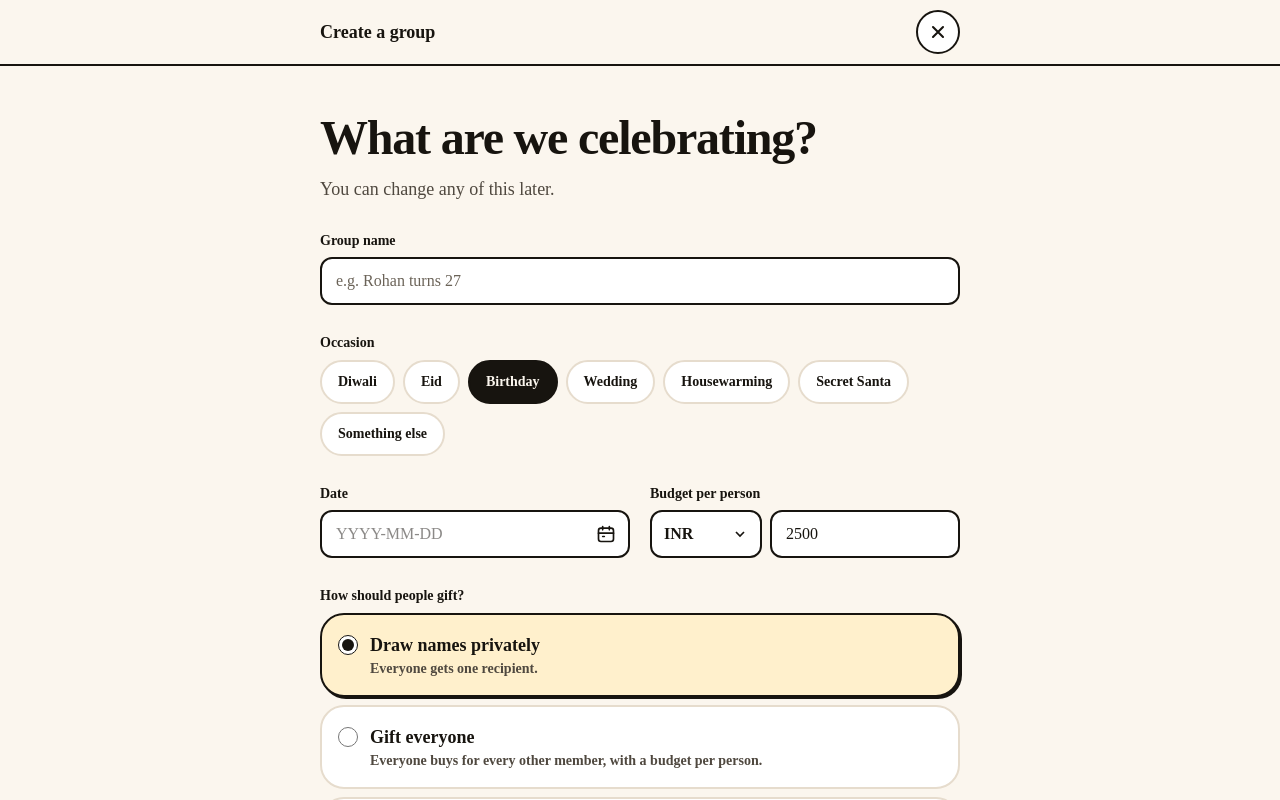
Test: CreateGroupScreen › blocks submission with a safe recovery error when storage is unavailable
Type "Rohan turns 27" into the field labelled "Group name" at (640, 280), box [320,256,960,304]
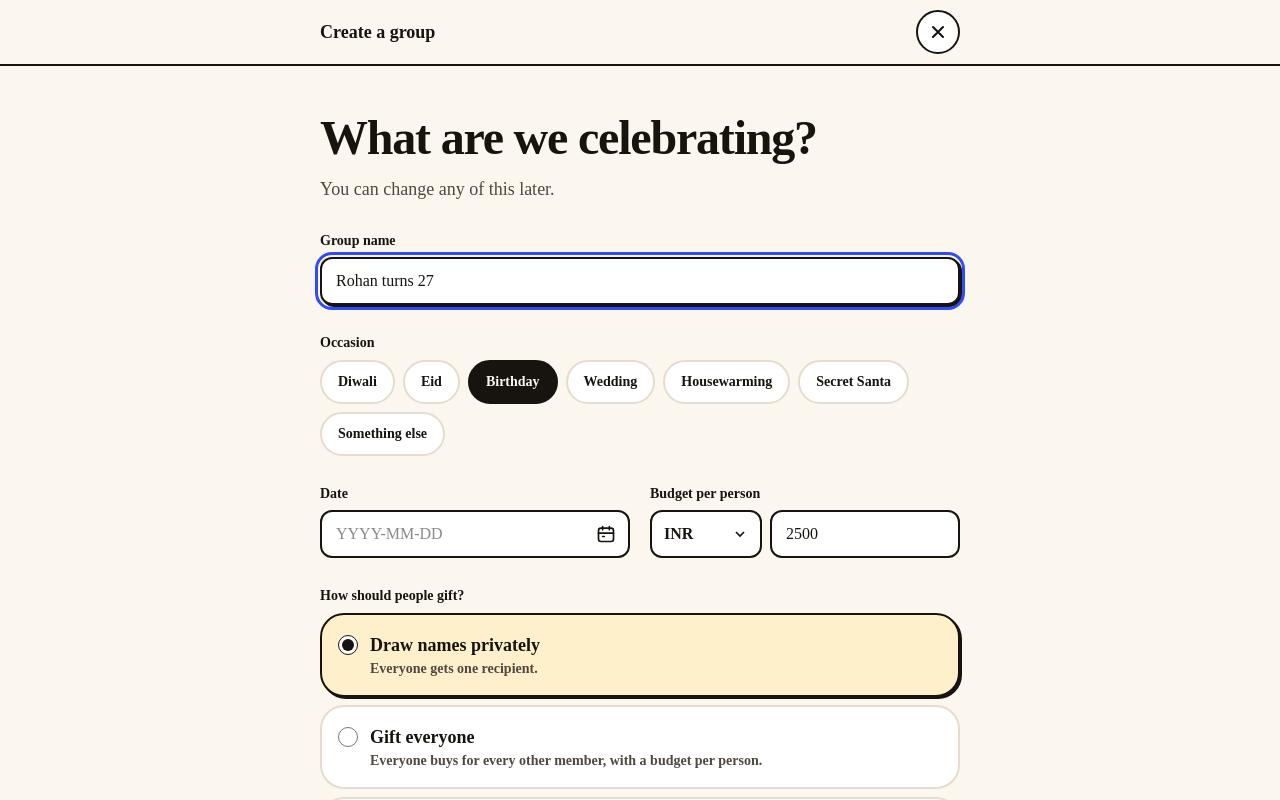
Type "2026-12-18" into the field labelled "Date" at (475, 534), box [320,510,630,558]
(page scrolled)
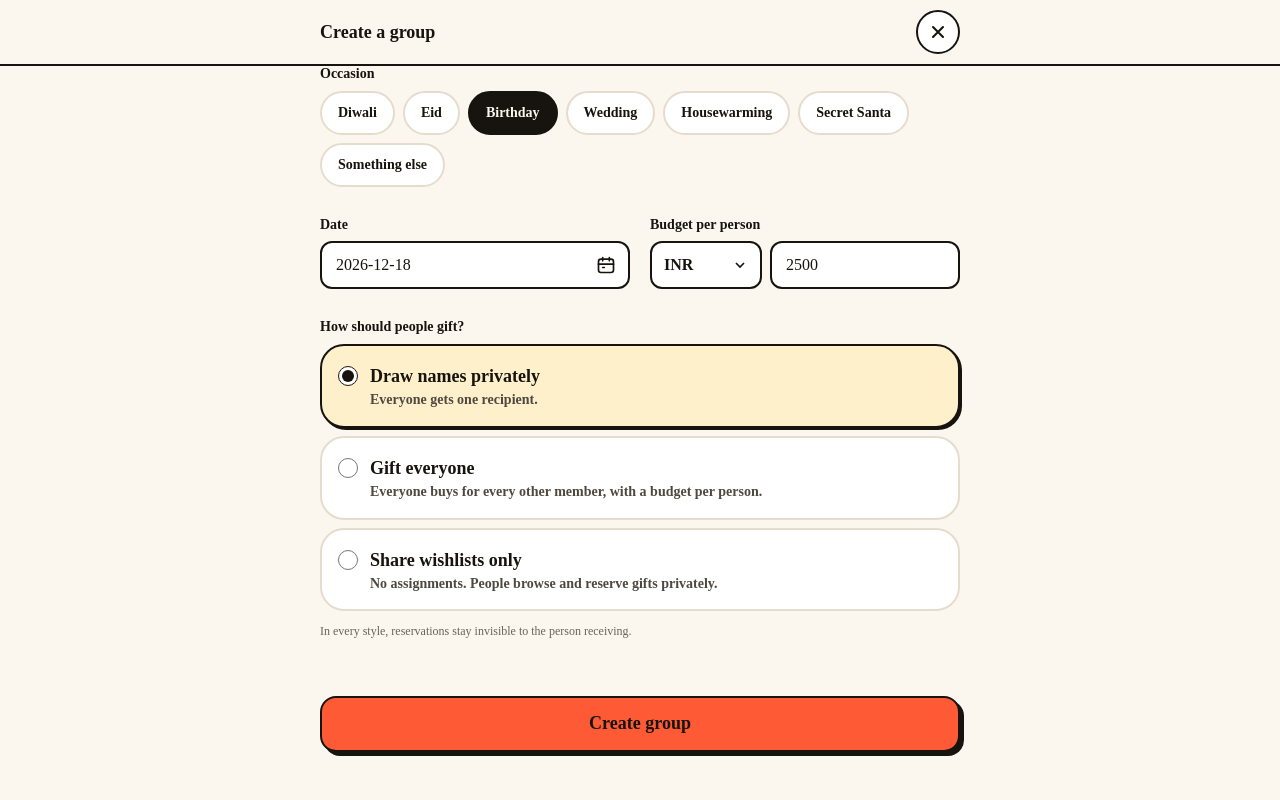
Click the button "Create group" at (640, 724), box [320,696,960,752]
(page scrolled)
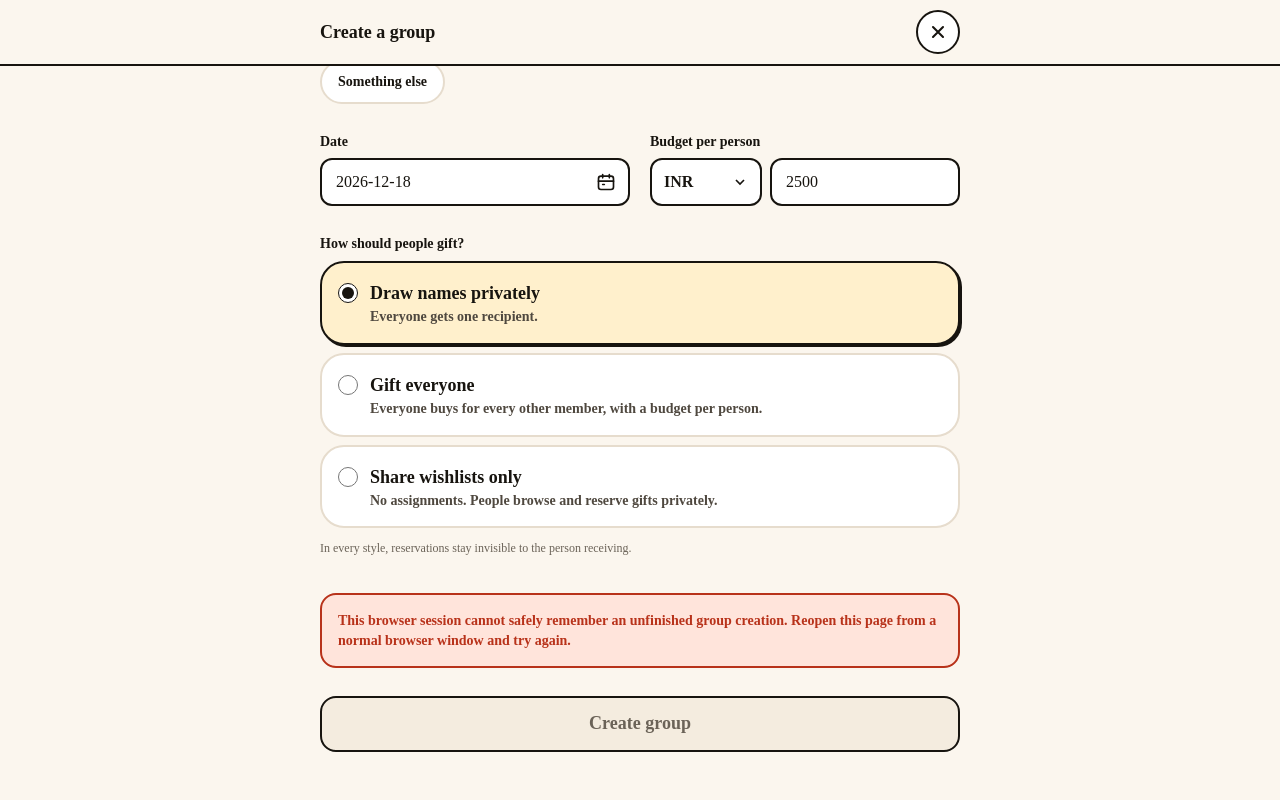
Expected: the text "cannot safely remember an unfinished group creation" is shown, [338,613,936,648]
Expected: the button "Create group" is disabled, [320,696,960,752]
